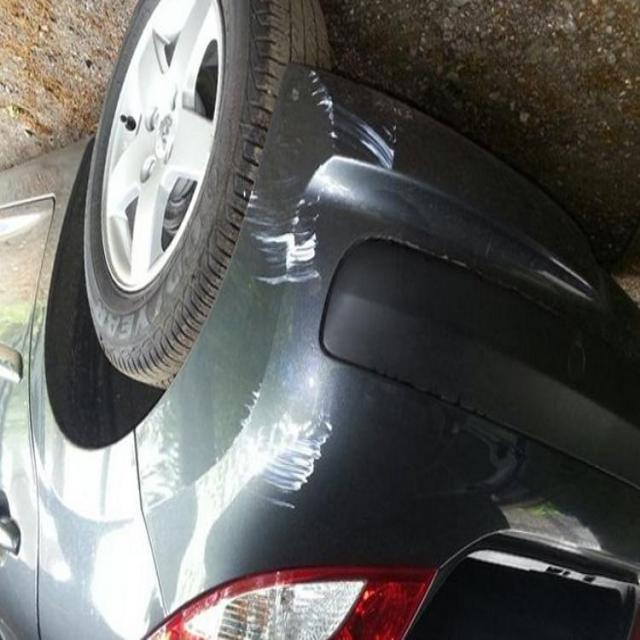scratch: (231, 61, 414, 311), (224, 363, 348, 530)
